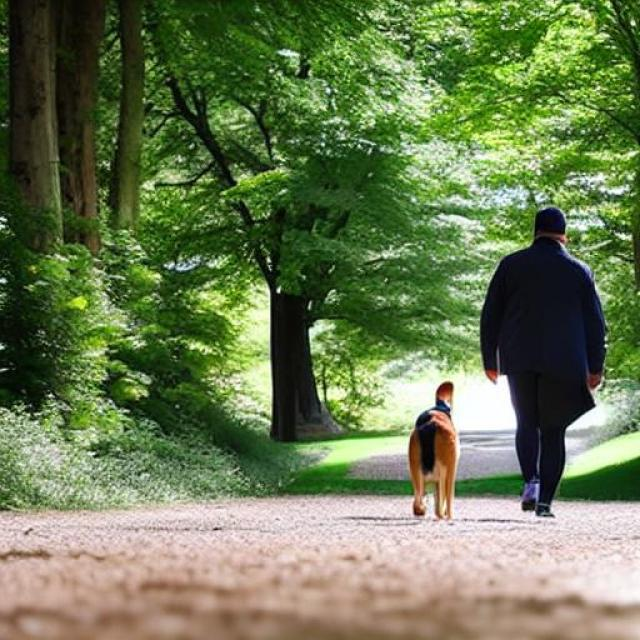Unleashed_Dog: (407, 353, 587, 523)
